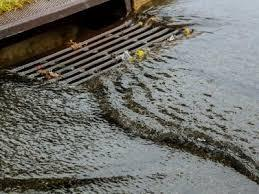drainage_overflow: (5, 0, 209, 137)
